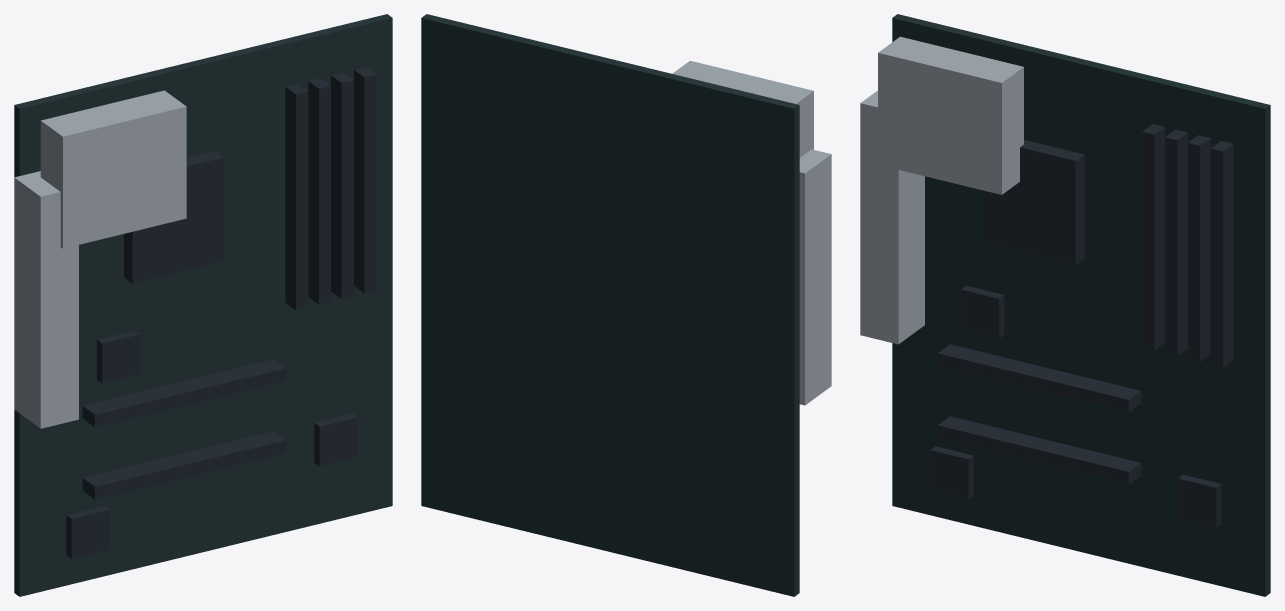
Rendered from motherboard.glb.
3 renders of one model, left to right at view 1: azimuth 30°, elevation 25°; view 2: azimuth 150°, elevation 25°; view 3: azimuth 330°, elevation 25°, orthographic.
Parts seen in each view (by area): view 1: PCB, CPU socket, VRM heatsink; view 2: PCB, VRM heatsink; view 3: PCB, CPU socket, VRM heatsink.
Boxes of the visible parts, bbox=[...] form: PCB: bbox=[14, 14, 392, 596]; CPU socket: bbox=[66, 67, 376, 558]; VRM heatsink: bbox=[14, 90, 186, 428]; PCB: bbox=[421, 14, 799, 596]; VRM heatsink: bbox=[672, 60, 831, 405]; PCB: bbox=[892, 14, 1270, 596]; CPU socket: bbox=[930, 124, 1233, 527]; VRM heatsink: bbox=[860, 36, 1023, 344].
Bounding box in the file's own units: 0.2475 × 0.3049 × 0.0386.
